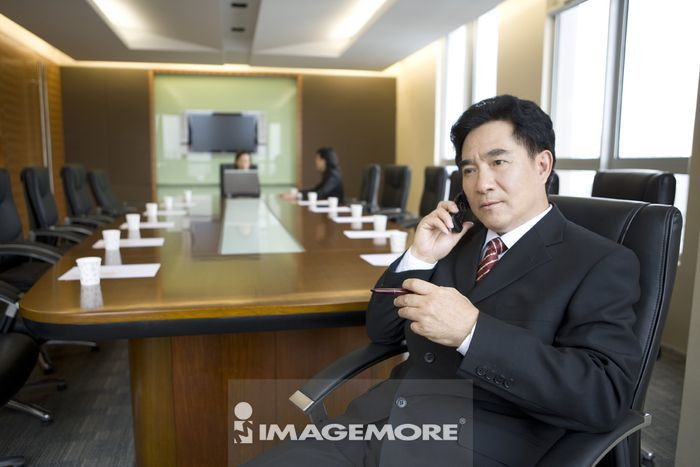talk: (414, 148, 515, 273)
